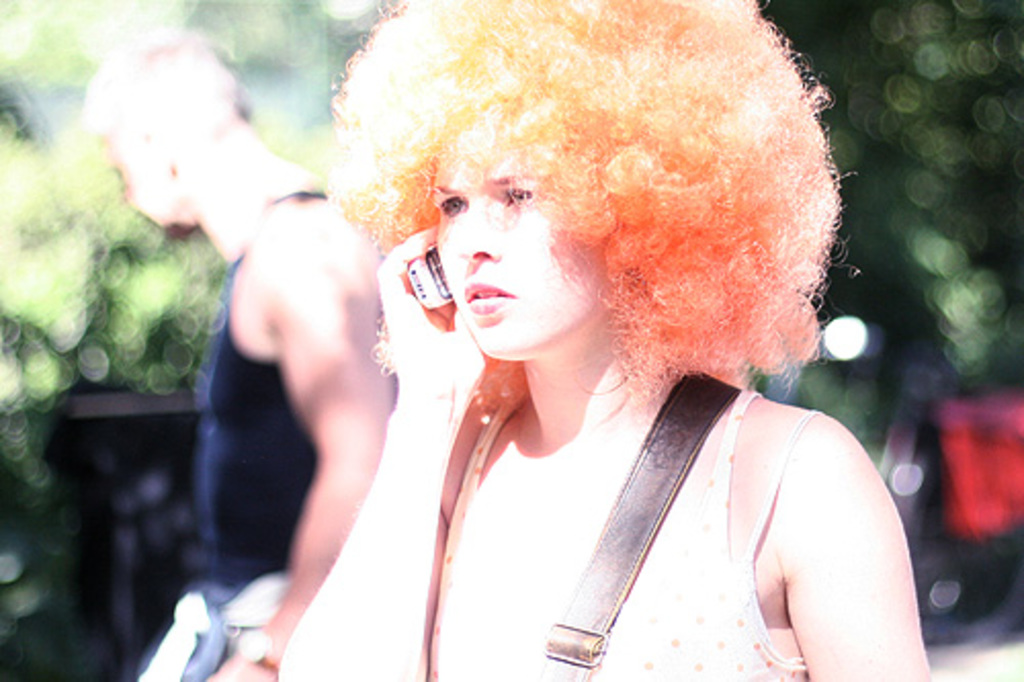Human_hand: (199, 641, 279, 680)
